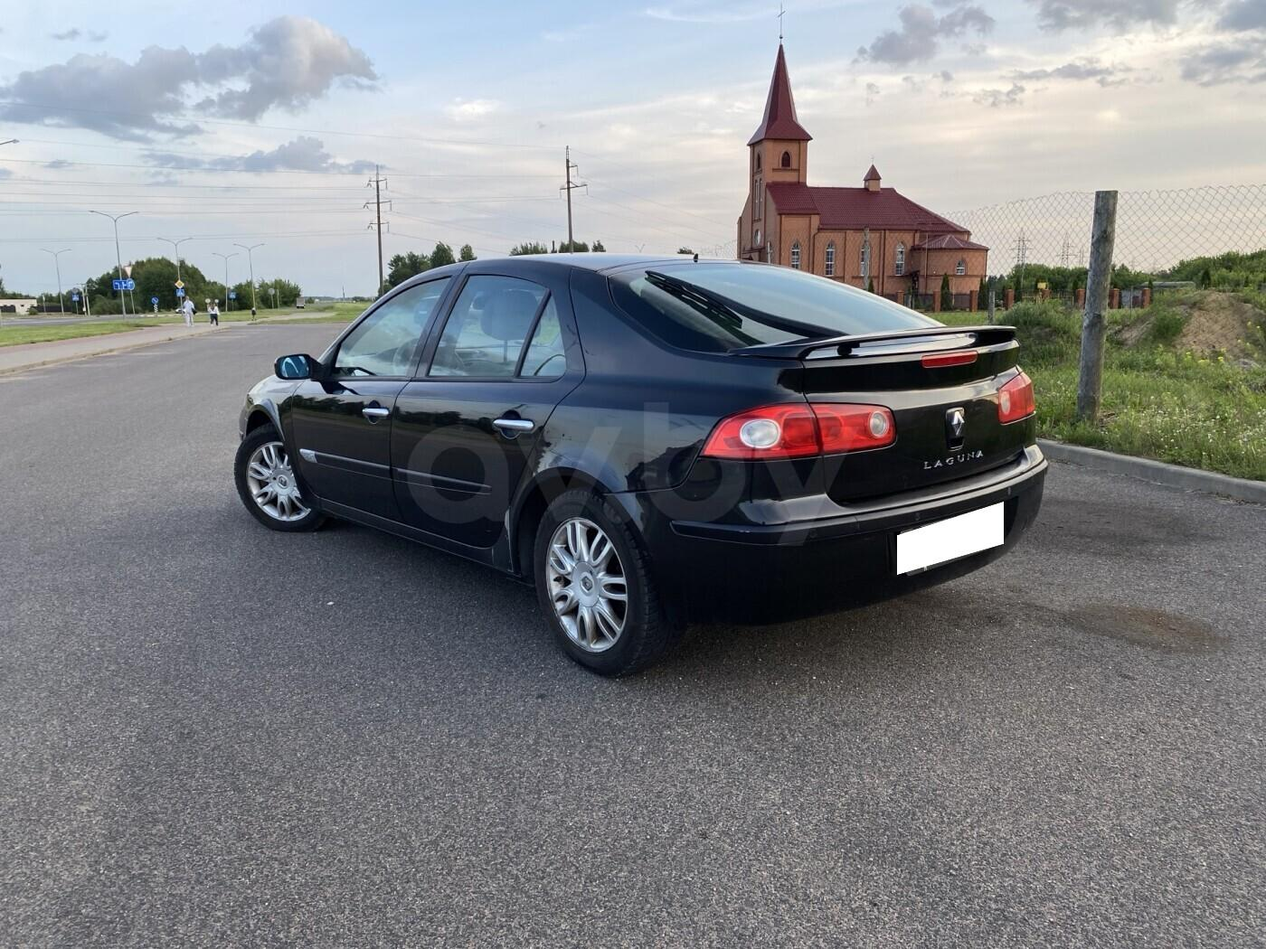Laguna_2005-2007: (226, 250, 1055, 669)
